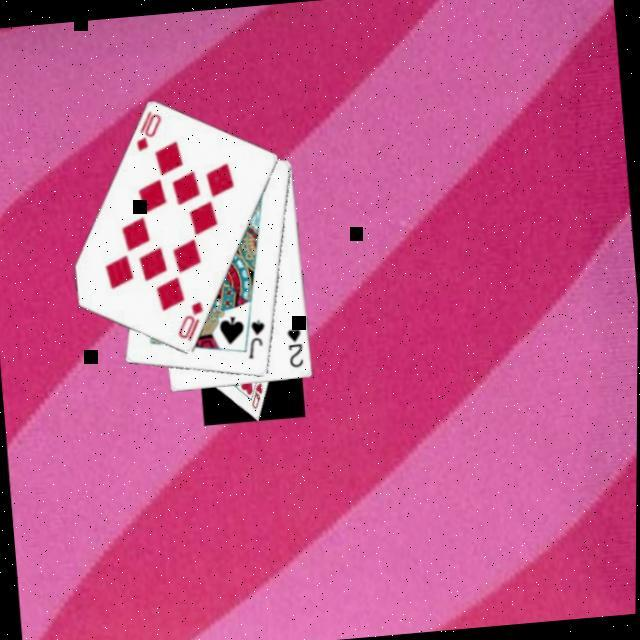10D: (170, 298, 208, 346), (130, 106, 166, 156)
2S: (283, 323, 307, 372)
JS: (242, 316, 270, 363)
